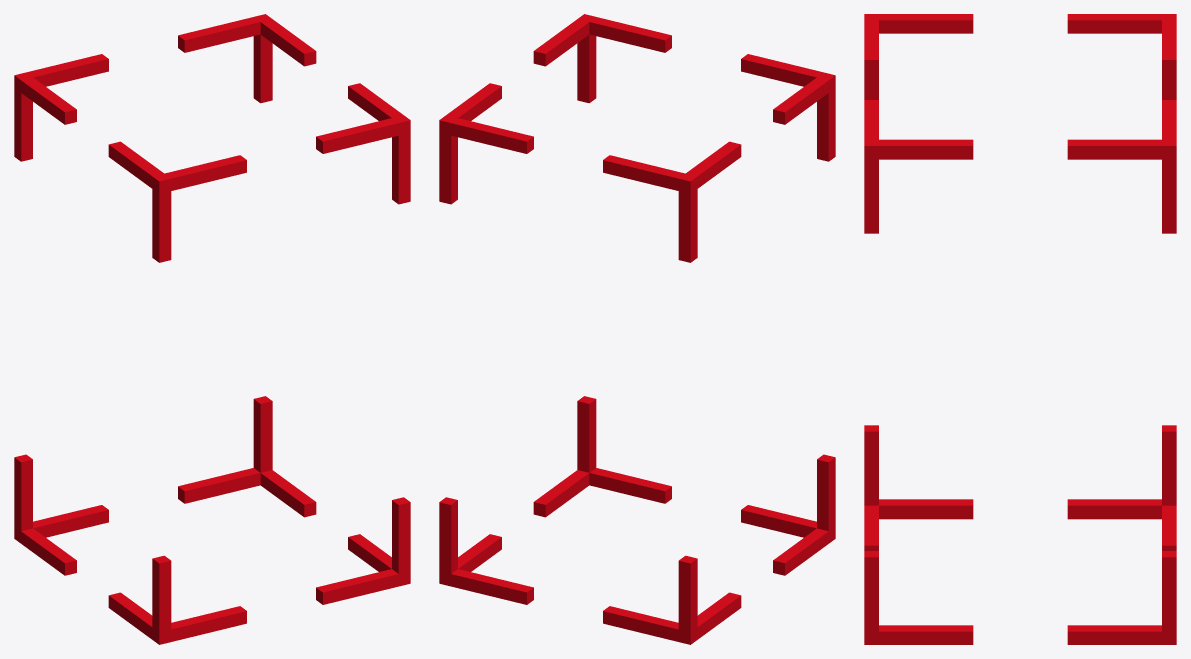
Rendered from yuansu09.aff3c8c.glb.
3 views of the same model, side by side, from view 1: azimuth 30°, elevation 25°; view 2: azimuth 150°, elevation 25°; view 3: azimuth 270°, elevation 25° (orthographic). The views are drawn at different scales.
Visible parts, largest first — view 1: yuansu09; view 2: yuansu09; view 3: yuansu09.
Part boxes in pixels (<box>): yuansu09: <box>14,14,410,644</box>; yuansu09: <box>439,14,835,644</box>; yuansu09: <box>864,14,1176,644</box>.
Bounding box in the file's own units: 1.05 × 1.85 × 1.05.
